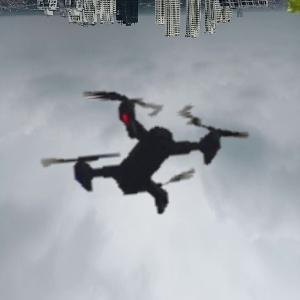drone: (1, 3, 294, 296)
